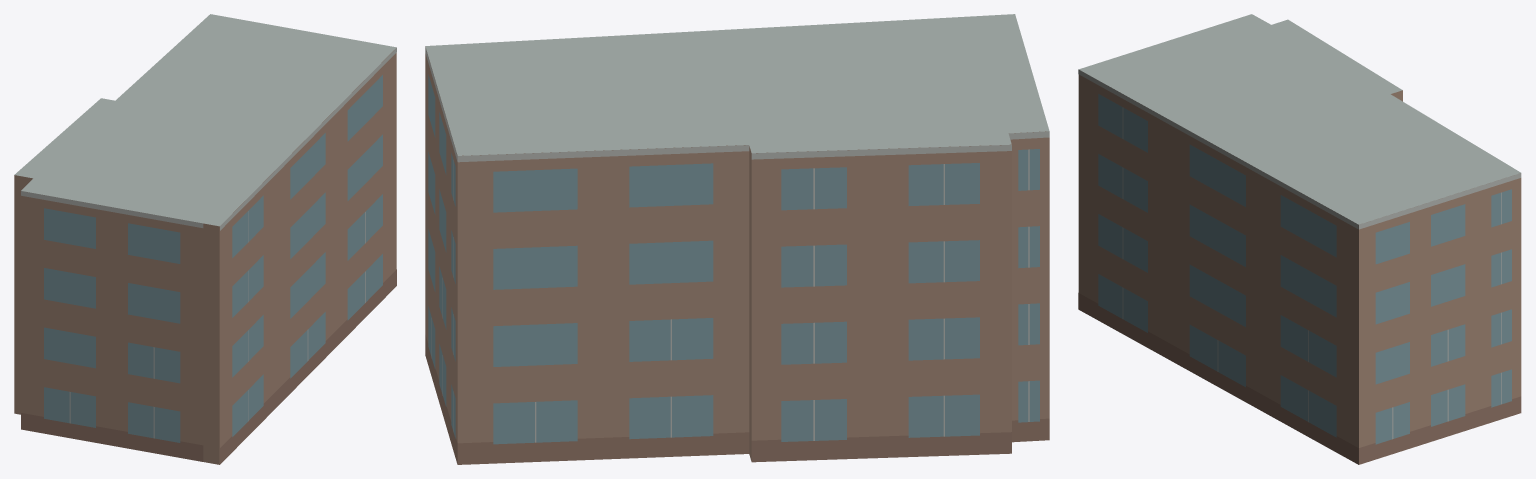
Rendered from survey-upis-32752996.glb.
3 renders of one model, left to right at view 1: azimuth 30°, elevation 25°; view 2: azimuth 150°, elevation 25°; view 3: azimuth 270°, elevation 25°, orthographic. The views are drawn at different scales.
Parts seen in each view (by area): view 1: survey-upis-32752996.tmp; view 2: survey-upis-32752996.tmp; view 3: survey-upis-32752996.tmp.
Part boxes in pixels (<box>): survey-upis-32752996.tmp: <box>14,14,396,464</box>; survey-upis-32752996.tmp: <box>425,14,1049,464</box>; survey-upis-32752996.tmp: <box>1078,14,1521,464</box>.
Bounding box in the file's own units: 22.59 × 12 × 20.06.
